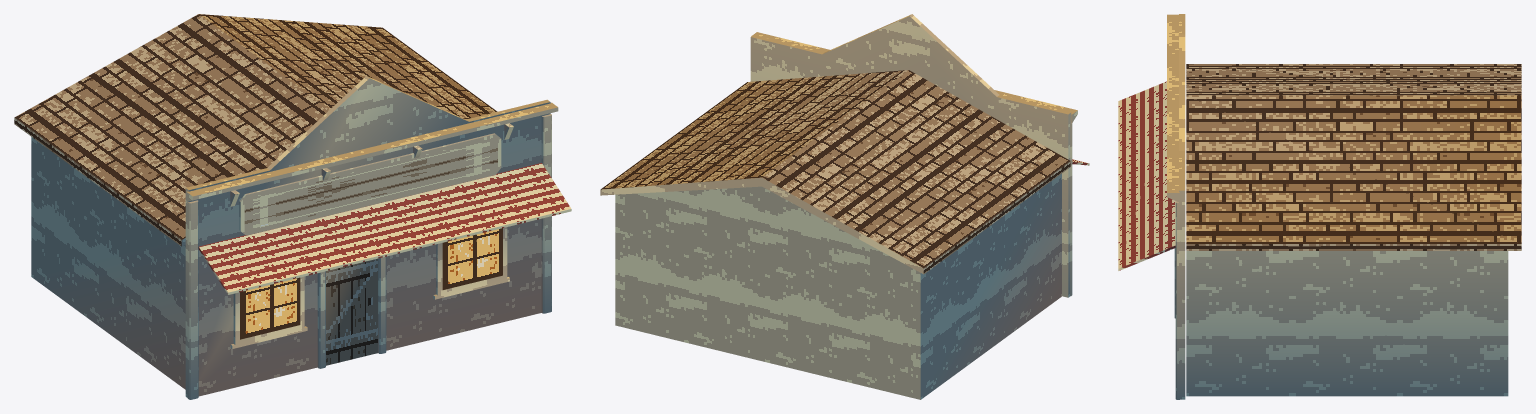
The model's file is wtown.facade__e_pediment.glb.
3 renders of one model, left to right at view 1: azimuth 30°, elevation 25°; view 2: azimuth 150°, elevation 25°; view 3: azimuth 270°, elevation 25°, orthographic. The views are drawn at different scales.
Visible parts, largest first — view 1: kit_roof, kit_front, kit_body, kit_card_panes, kit_awning, kit_trim, kit_windows; view 2: kit_body, kit_roof, kit_front, kit_trim; view 3: kit_roof, kit_body, kit_awning, kit_trim, kit_front.
Part boxes in pixels (<box>): kit_roof: <box>14,14,497,246</box>; kit_front: <box>185,76,550,397</box>; kit_body: <box>31,137,185,389</box>; kit_card_panes: <box>240,137,502,365</box>; kit_awning: <box>198,163,571,294</box>; kit_trim: <box>186,102,558,399</box>; kit_windows: <box>230,227,509,348</box>; kit_body: <box>615,173,1061,399</box>; kit_roof: <box>600,70,1070,274</box>; kit_front: <box>750,14,1071,297</box>; kit_trim: <box>752,32,1077,295</box>; kit_roof: <box>1186,64,1521,250</box>; kit_body: <box>1186,251,1508,396</box>; kit_awning: <box>1118,81,1175,270</box>; kit_trim: <box>1167,14,1179,399</box>; kit_front: <box>1179,14,1185,399</box>.
Bounding box in the file's own units: 7.94 × 5.7 × 7.52.
Materials: 6 (6 with a texture image).
